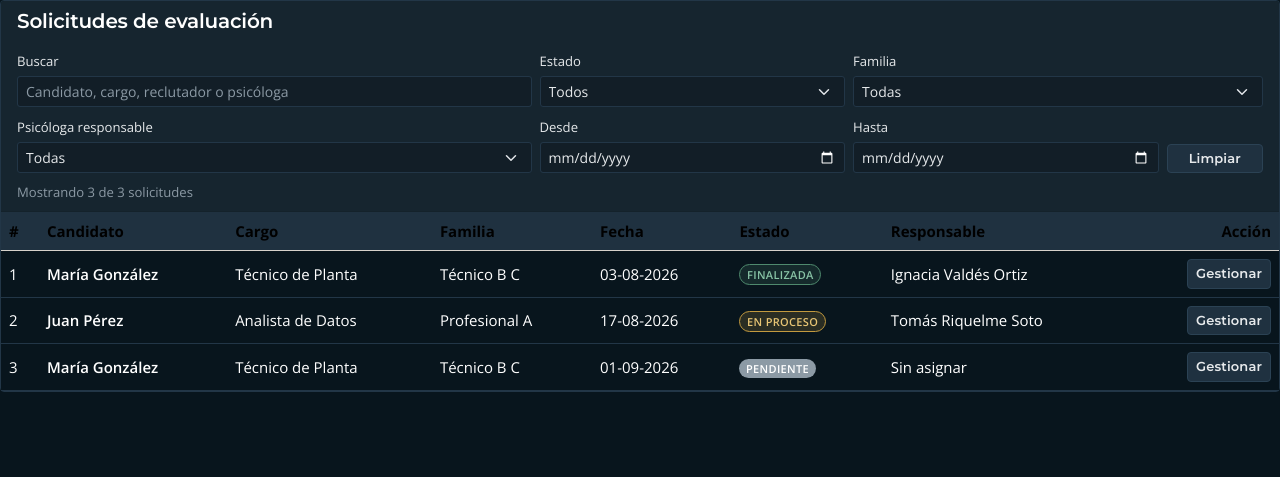
it: ListaSolicitudes › muestra el estado vacío y permite limpiar los filtros
In the search field labelled "Buscar": coordinates (274, 92) [17,76,532,107], type "no-existe"
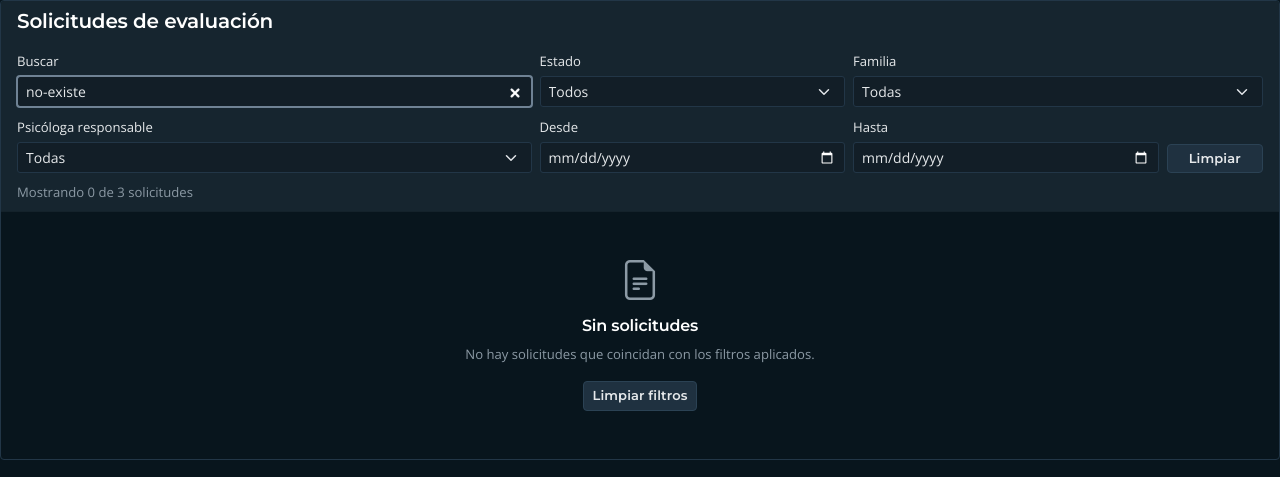
Expected: the heading "Sin solicitudes" is shown, [582,316,698,335]
Click the button "Limpiar filtros": coordinates (640, 396) [584,381,696,411]
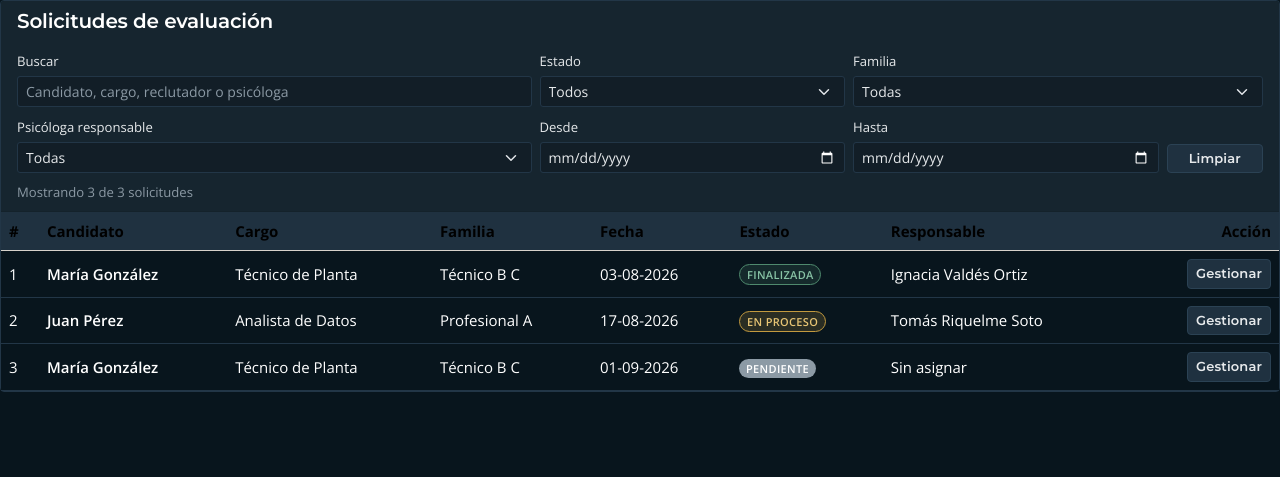
Expected: the text "Mostrando 3 de 3 solicitudes" is shown, [17,183,193,201]
